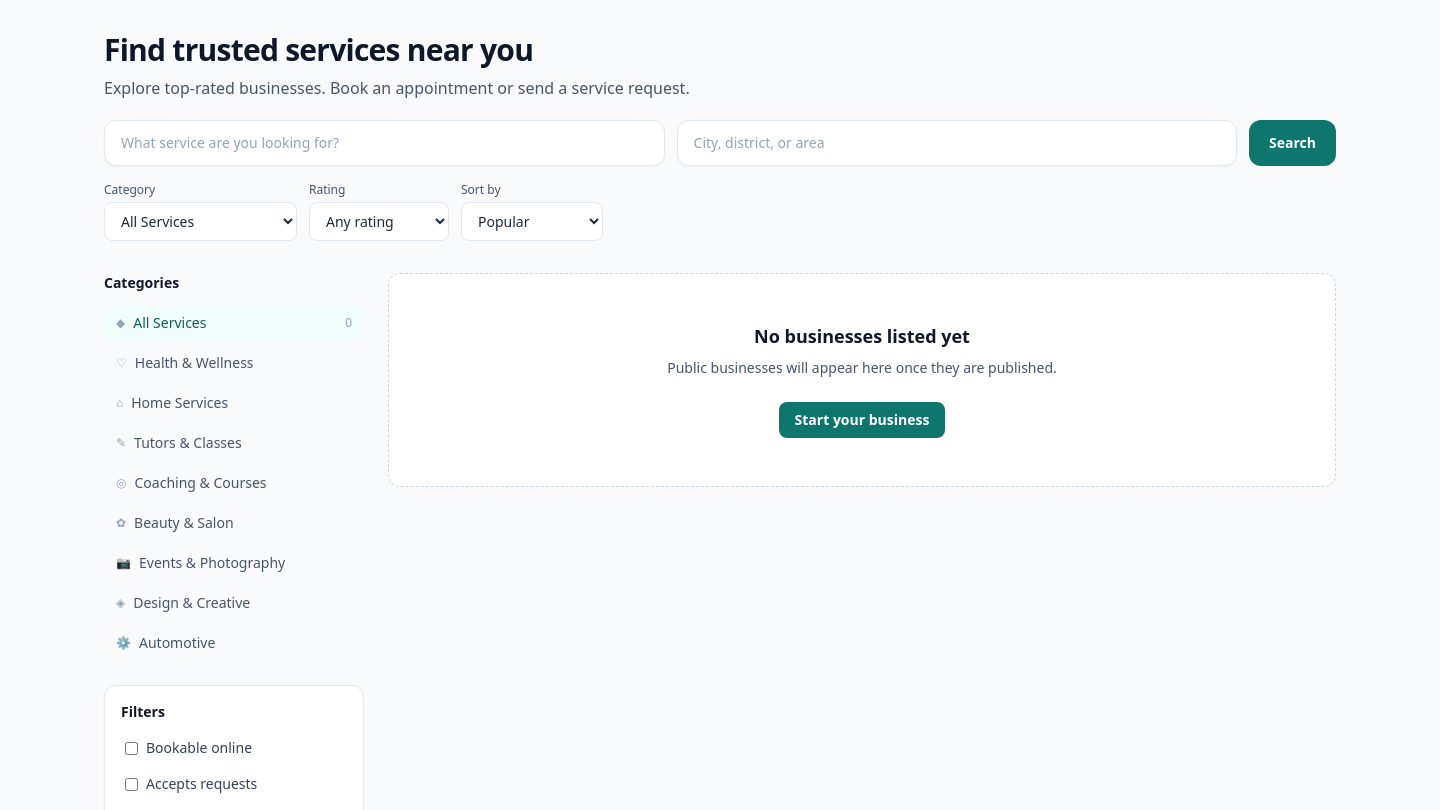
Test case: public business directory › submits location filter to directory API and updates router search
The width and height of the screenshot is (1440, 810).
In the search field with test id "marketplace-location-input": (957, 143) 676,120 -> 1237,166, type "Dubai"
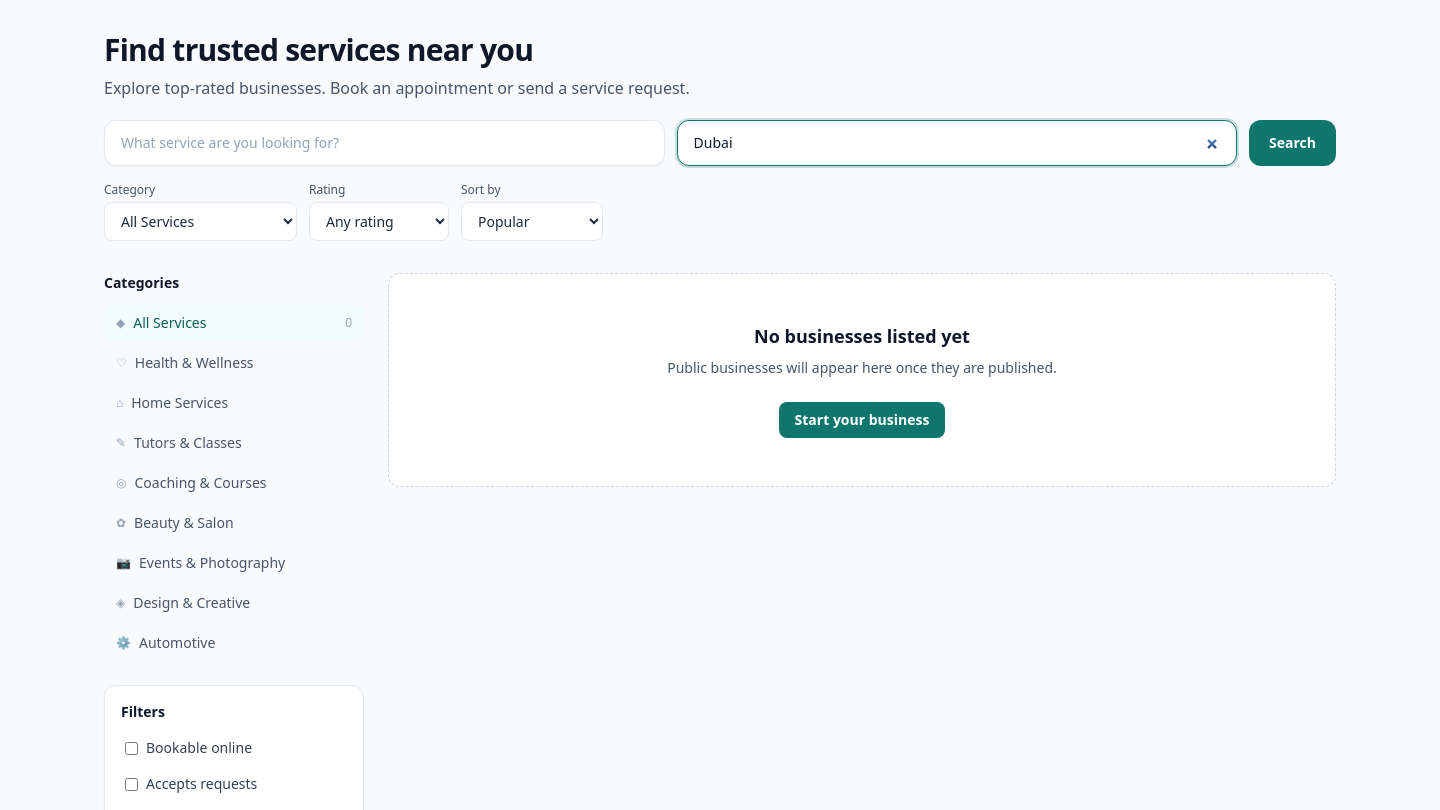
Click the button with test id "marketplace-search-button": click(1293, 143) 1249,120 -> 1336,166
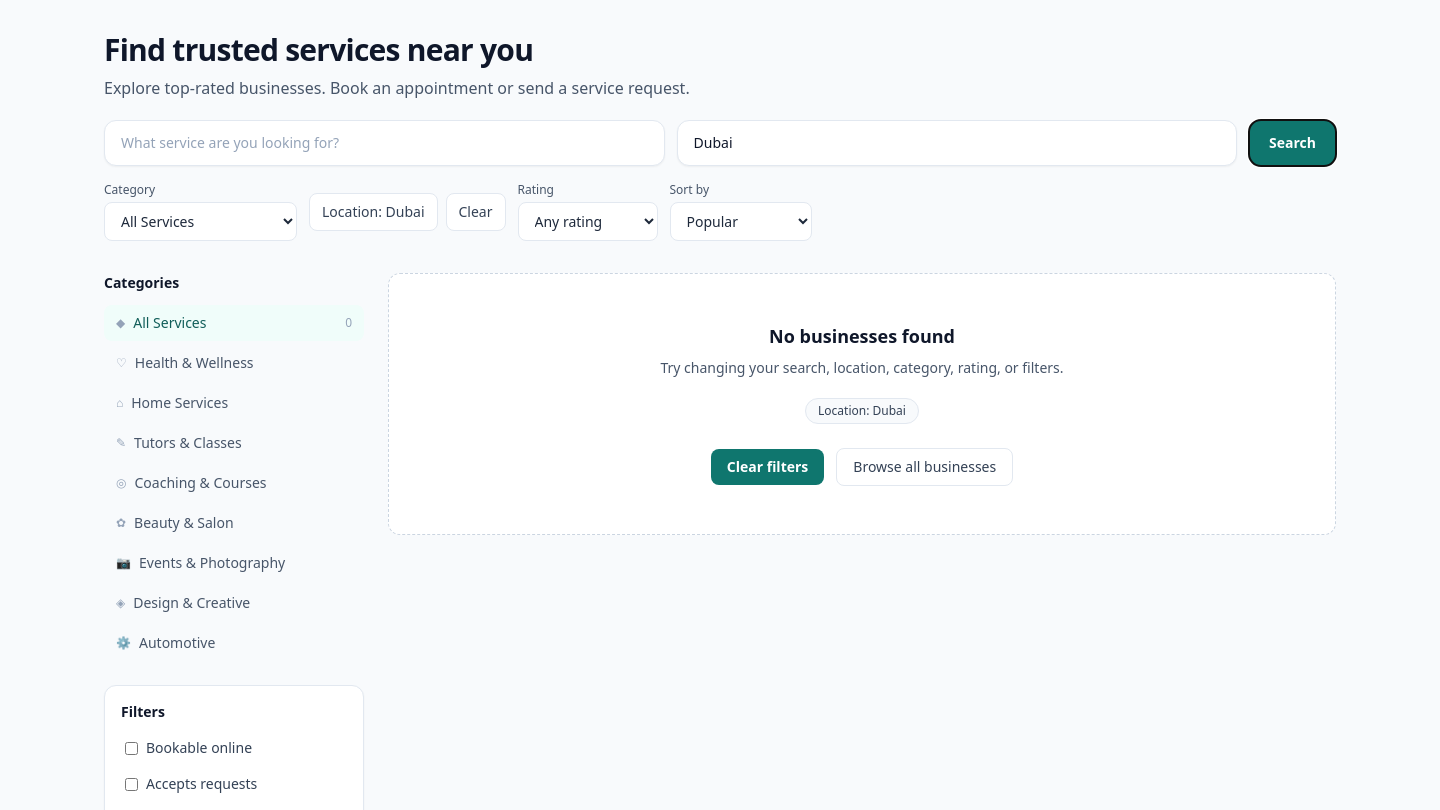
Expected: the text "Dubai" is shown, 386,202 -> 425,220
